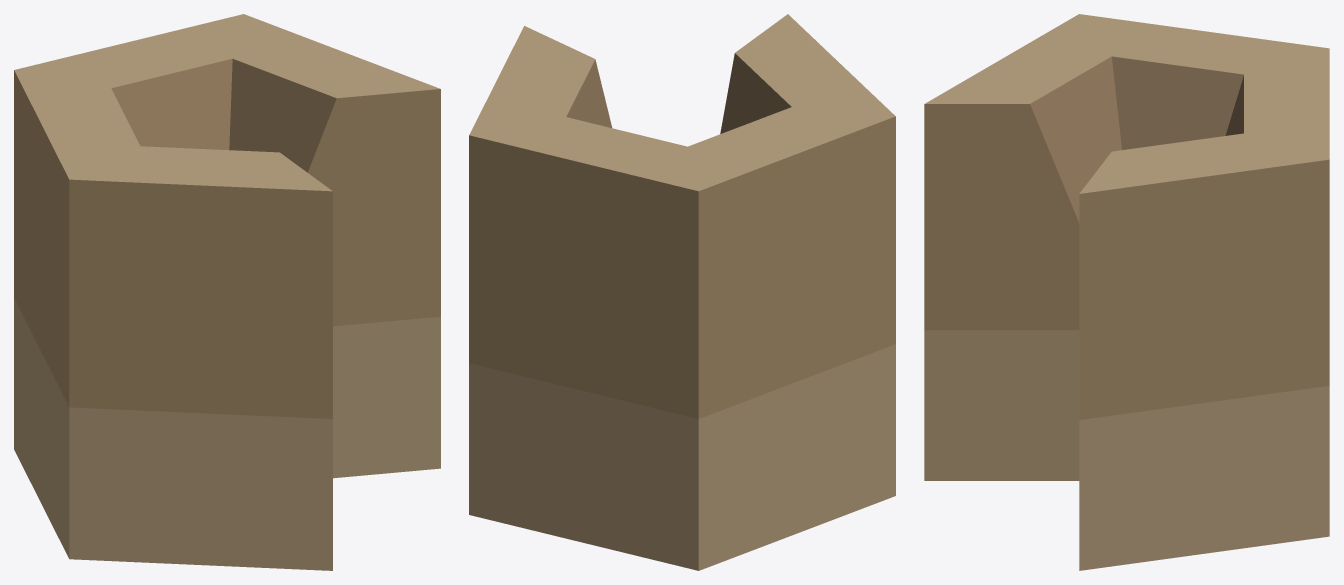
File: pentichnus-deep-dwelling-trace.glb
3 renders of one model, left to right at view 1: azimuth 30°, elevation 25°; view 2: azimuth 150°, elevation 25°; view 3: azimuth 270°, elevation 25°, orthographic.
Visible parts, largest first — view 1: Pentameral deep cavity sectional sediment; view 2: Pentameral deep cavity sectional sediment; view 3: Pentameral deep cavity sectional sediment.
Part boxes in pixels (<box>): Pentameral deep cavity sectional sediment: <box>14,14,440,570</box>; Pentameral deep cavity sectional sediment: <box>469,14,895,570</box>; Pentameral deep cavity sectional sediment: <box>924,14,1329,570</box>.
Bounding box in the file's own units: 0.1331 × 0.13 × 0.1266.
